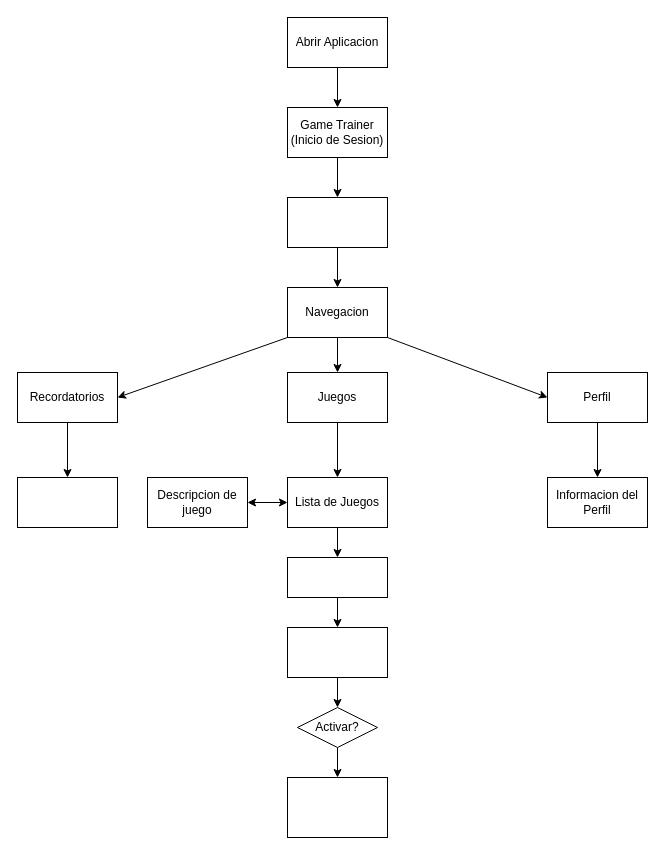
The diagram is 665 pixels wide and 855 high, and some of its shapes have lost their labels. Here are the shapes that lost their labels. From the top down, the centre of each, then its label:
At pixel 337 222: "Pantalla Principal".
At pixel 67 502: "Lista de Recordatorios".
At pixel 337 577: "Ver Rutinas".
At pixel 337 652: "Detalles de rutina".
At pixel 337 807: "Activacion de rutina, aparecera en la pantalla principal".
